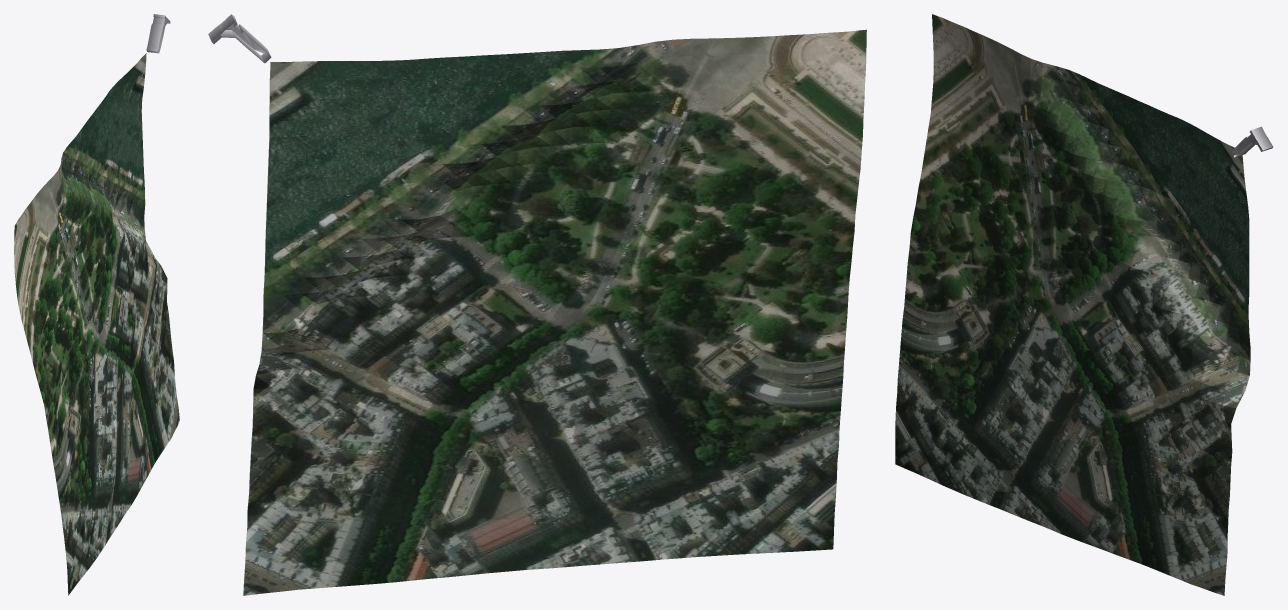
The picture shows the model from 3 angles, left to right: view 1: azimuth 30°, elevation 25°; view 2: azimuth 150°, elevation 25°; view 3: azimuth 270°, elevation 25°; orthographic projection. The views are drawn at different scales.
Size of the model in its own units: 340 by 446 by 321.
1 material, 1 textured.
